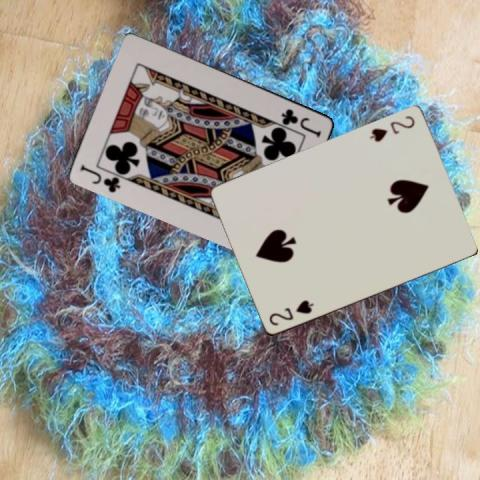2s: (266, 297, 316, 328), (367, 113, 416, 144)
Jc: (77, 161, 123, 194), (278, 105, 323, 138)
